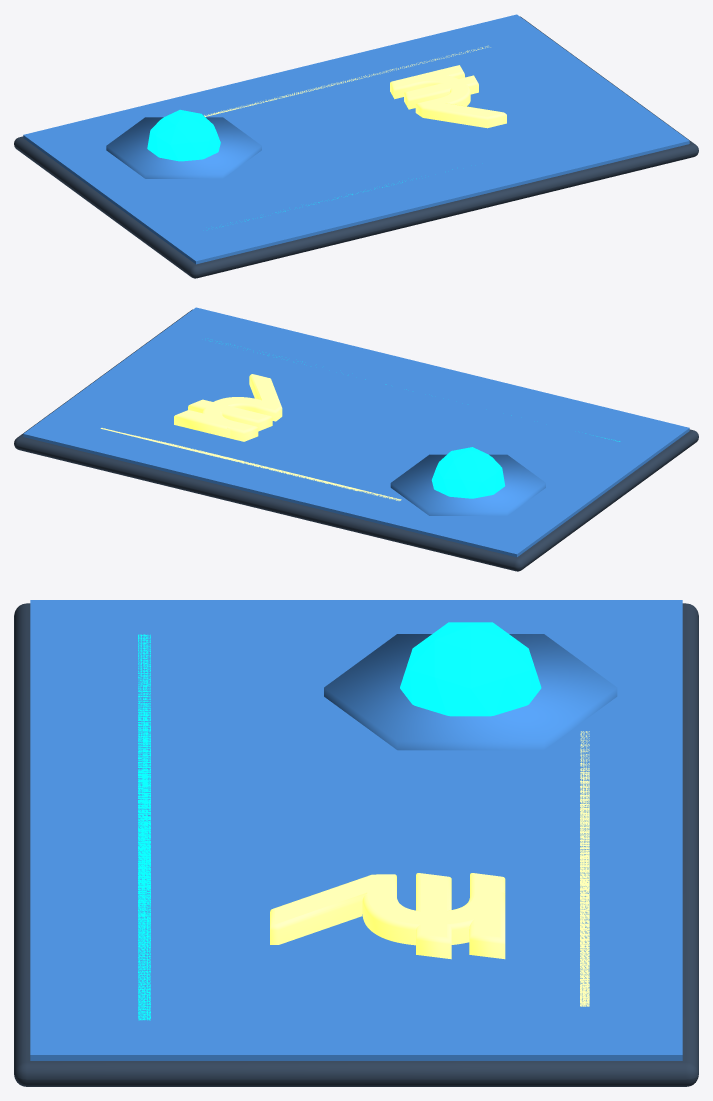
File: vault_game_card_3d.glb
The picture shows the model from 3 angles, top to bottom: view 1: azimuth 30°, elevation 25°; view 2: azimuth 150°, elevation 25°; view 3: azimuth 270°, elevation 25°; orthographic projection. The views are drawn at different scales.
Parts seen in each view (by area): view 1: CyberFrame, CyberCardBase, VaultHexCore, CardRupeeSymbol, VaultPowerCrystal, CyberStripe2; view 2: CyberFrame, CyberCardBase, VaultHexCore, CardRupeeSymbol, VaultPowerCrystal, CyberStripe2; view 3: CyberFrame, CyberCardBase, VaultHexCore, CardRupeeSymbol, VaultPowerCrystal, CyberStripe1, CyberStripe2.
Boxes of the visible parts, x1,y1,x2,y2 form: CyberFrame: (23, 14, 689, 264); CyberCardBase: (14, 16, 698, 278); VaultHexCore: (106, 117, 261, 178); CardRupeeSymbol: (390, 65, 506, 128); VaultPowerCrystal: (147, 109, 220, 161); CyberStripe2: (204, 45, 490, 116); CyberFrame: (23, 307, 689, 557); CyberCardBase: (14, 309, 698, 571); VaultHexCore: (390, 454, 545, 515); CardRupeeSymbol: (174, 374, 282, 441); VaultPowerCrystal: (431, 447, 505, 498); CyberStripe2: (100, 428, 401, 500); CyberFrame: (30, 600, 682, 1060); CyberCardBase: (14, 603, 698, 1086); VaultHexCore: (324, 634, 617, 750); CardRupeeSymbol: (270, 873, 505, 959); VaultPowerCrystal: (400, 622, 541, 716); CyberStripe1: (138, 634, 150, 1020); CyberStripe2: (580, 731, 589, 1006).
Size of the model in its own units: 3.4 by 0.44 by 2.1.
